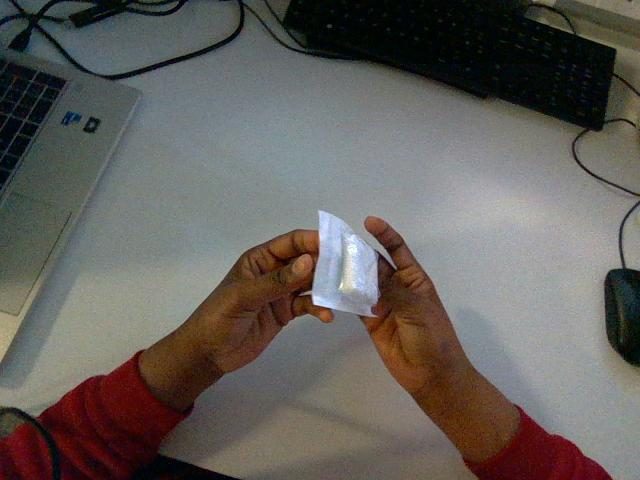gauze: (312, 211, 378, 315)
